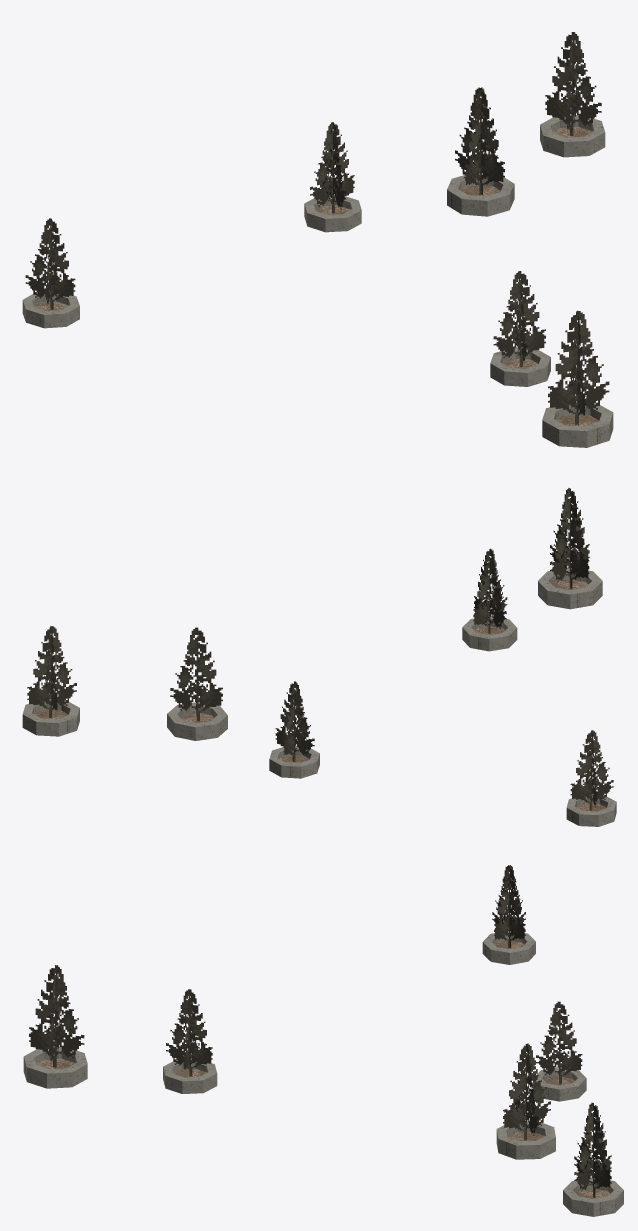
File: procgen-procpain-tree-park-pine-large-xm1zm2.obj
3 renders of one model, top to bottom at view 1: azimuth 30°, elevation 25°; view 2: azimuth 150°, elevation 25°; view 3: azimuth 270°, elevation 25°, orthographic. The views are drawn at different scales.
Size of the model in its own units: 59.37 by 11.09 by 55.76.
